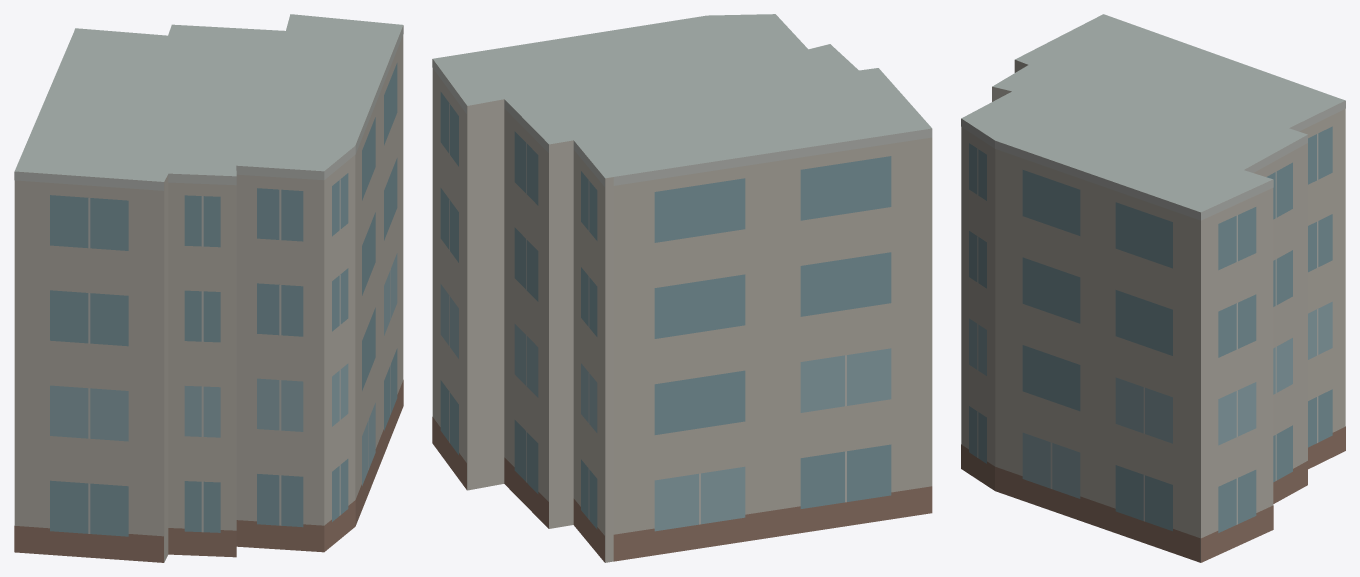
File: survey-upis-32619392.glb
The picture shows the model from 3 angles, left to right: view 1: azimuth 30°, elevation 25°; view 2: azimuth 150°, elevation 25°; view 3: azimuth 270°, elevation 25°; orthographic projection. The views are drawn at different scales.
Visible parts, largest first — view 1: survey-upis-32619392.tmp; view 2: survey-upis-32619392.tmp; view 3: survey-upis-32619392.tmp.
Part boxes in pixels (x1,y1,x2,y2): survey-upis-32619392.tmp: (14,14,403,562); survey-upis-32619392.tmp: (432,14,932,562); survey-upis-32619392.tmp: (961,14,1345,562).
Bounding box in the file's own units: 12.64 × 10.4 × 10.35.
